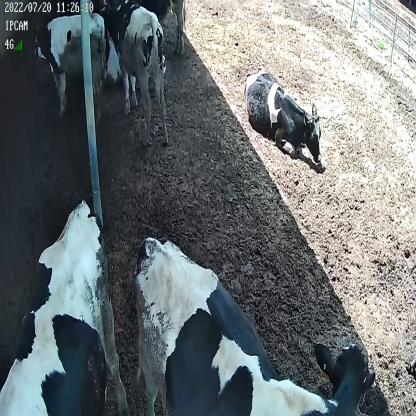cow: (132, 232, 378, 416), (107, 0, 171, 148), (241, 62, 324, 164), (34, 12, 105, 123)
